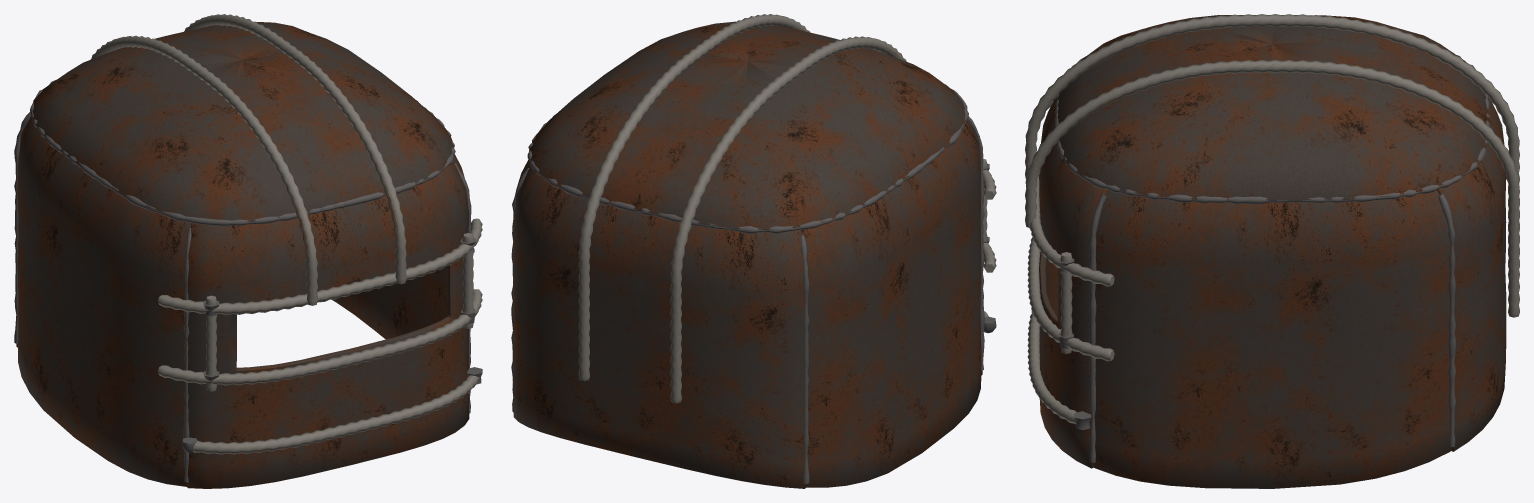
Rendered from HeavyHelm.fbx.
3 renders of one model, left to right at view 1: azimuth 30°, elevation 25°; view 2: azimuth 150°, elevation 25°; view 3: azimuth 270°, elevation 25°, orthographic. The views are drawn at different scales.
Visible parts, largest first — view 1: Plate_Top, Plate_Front, Plate_Side_R, Plate_Side_L, Bar_Crown_R, Bar_Crown_L, Bar_Cheek, Bar_Brow, Bar_Chin, Weld_Top_Seam, Weld_Front_R, Weld_Back_R (+2 smaller); view 2: Plate_Back, Plate_Top, Plate_Side_R, Bar_Crown_R, Bar_Crown_L, Weld_Top_Seam, Weld_Back_R, Weld_Front_R, Weld_Back_L; view 3: Plate_Side_L, Plate_Top, Plate_Back, Plate_Front, Bar_Crown_L, Bar_Crown_R, Weld_Top_Seam, Bar_Cheek, Weld_Front_L, Weld_Back_L, Bar_Chin, Bar_Brow (+1 smaller).
Part boxes in pixels (left/top/right/bottom): Plate_Top: left=31, top=22, right=454, bottom=221; Plate_Front: left=187, top=162, right=469, bottom=488; Plate_Side_R: left=17, top=116, right=191, bottom=486; Plate_Side_L: left=332, top=154, right=464, bottom=339; Bar_Crown_R: left=91, top=35, right=317, bottom=305; Bar_Crown_L: left=184, top=14, right=406, bottom=284; Bar_Cheek: left=158, top=289, right=482, bottom=385; Bar_Brow: left=158, top=218, right=482, bottom=315; Bar_Chin: left=192, top=375, right=479, bottom=454; Weld_Top_Seam: left=30, top=80, right=455, bottom=226; Weld_Front_R: left=183, top=228, right=191, bottom=482; Weld_Back_R: left=14, top=112, right=31, bottom=343; Plate_Back: left=513, top=167, right=805, bottom=488; Plate_Top: left=529, top=21, right=965, bottom=230; Plate_Side_R: left=801, top=119, right=981, bottom=487; Bar_Crown_R: left=670, top=36, right=906, bottom=403; Bar_Crown_L: left=578, top=14, right=810, bottom=381; Weld_Top_Seam: left=527, top=84, right=968, bottom=233; Weld_Back_R: left=800, top=235, right=809, bottom=483; Weld_Front_R: left=968, top=116, right=984, bottom=370; Weld_Back_L: left=511, top=168, right=529, bottom=412; Plate_Side_L: left=1093, top=189, right=1451, bottom=488; Plate_Top: left=1056, top=15, right=1488, bottom=200; Plate_Back: left=1437, top=98, right=1506, bottom=451; Plate_Front: left=1039, top=98, right=1107, bottom=468; Bar_Crown_L: left=1025, top=60, right=1519, bottom=317; Bar_Crown_R: left=1025, top=14, right=1519, bottom=268; Weld_Top_Seam: left=1055, top=55, right=1490, bottom=204; Bar_Cheek: left=1027, top=237, right=1114, bottom=361; Weld_Front_L: left=1089, top=194, right=1106, bottom=462; Weld_Back_L: left=1438, top=194, right=1455, bottom=447; Bar_Chin: left=1027, top=310, right=1076, bottom=423; Bar_Brow: left=1029, top=176, right=1114, bottom=286.
Size of the model in its own units: 39.72 by 38.45 by 47.39.
Materials: 3 (2 with a texture image).
